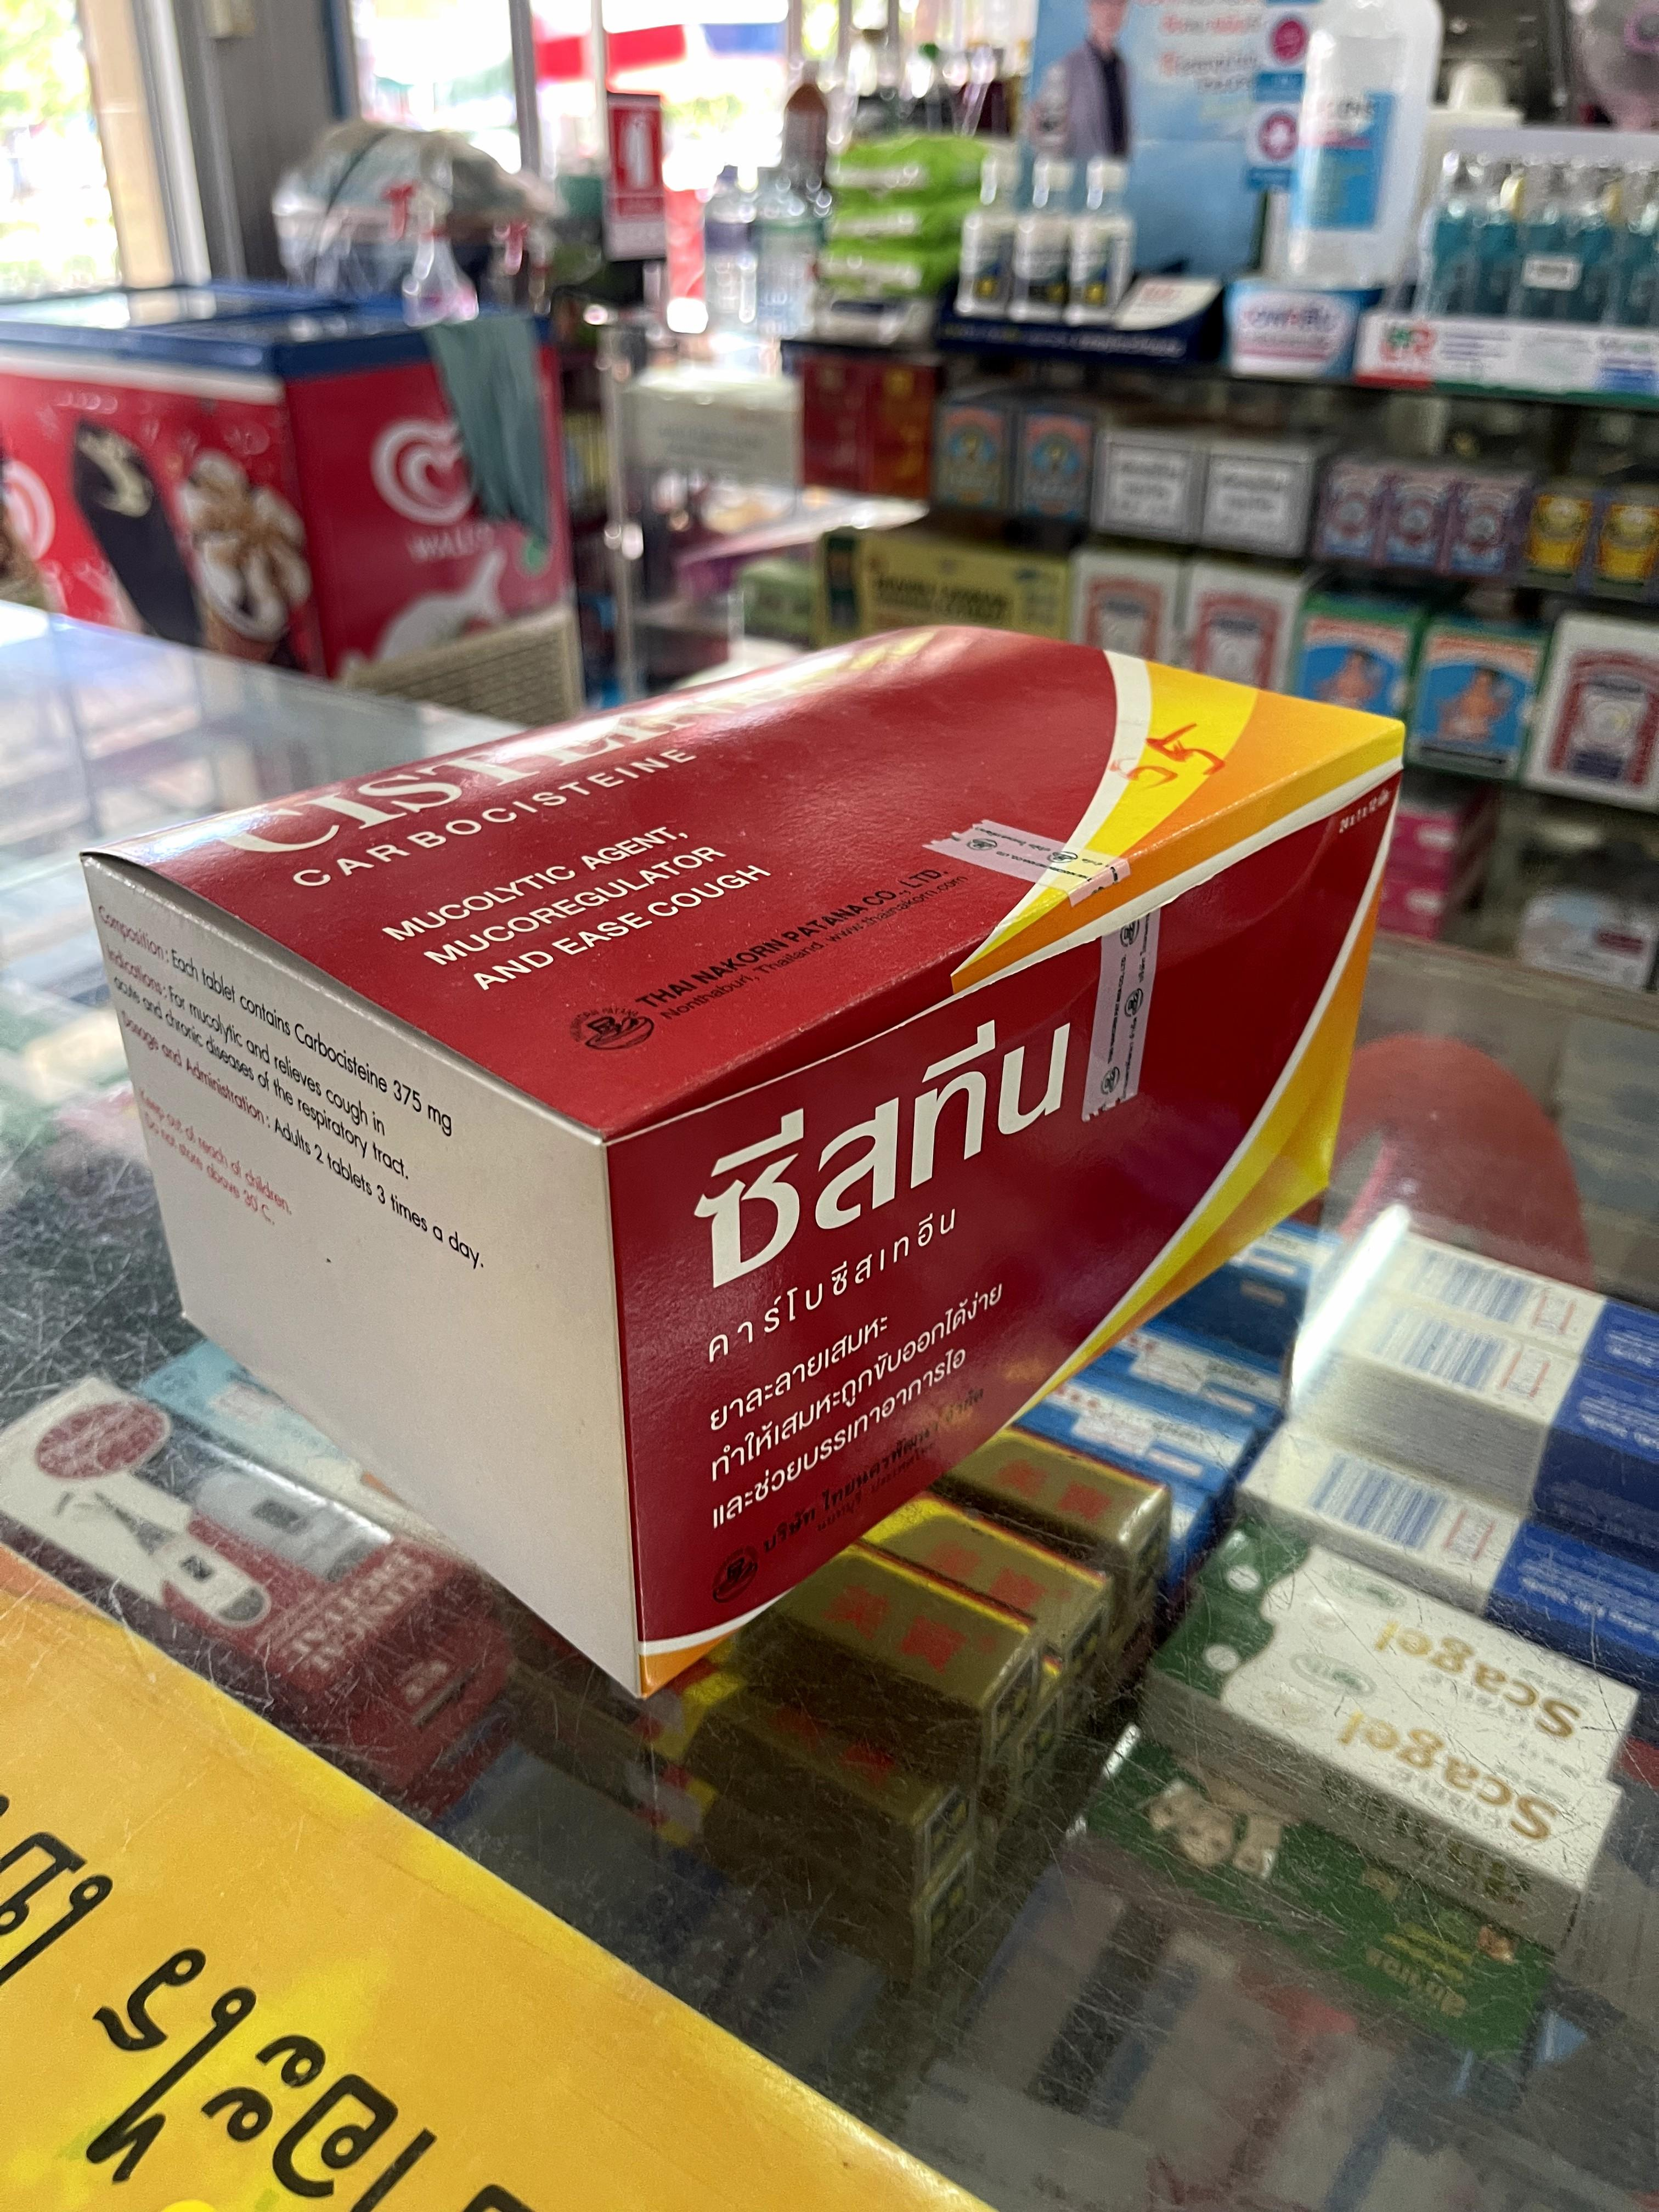Cisteine_Box: (85, 615, 1405, 1681)
